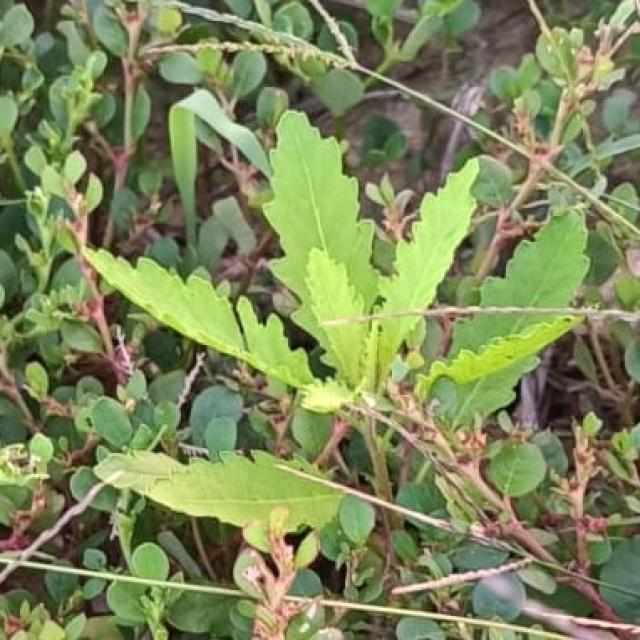weed: (85, 111, 637, 640)
